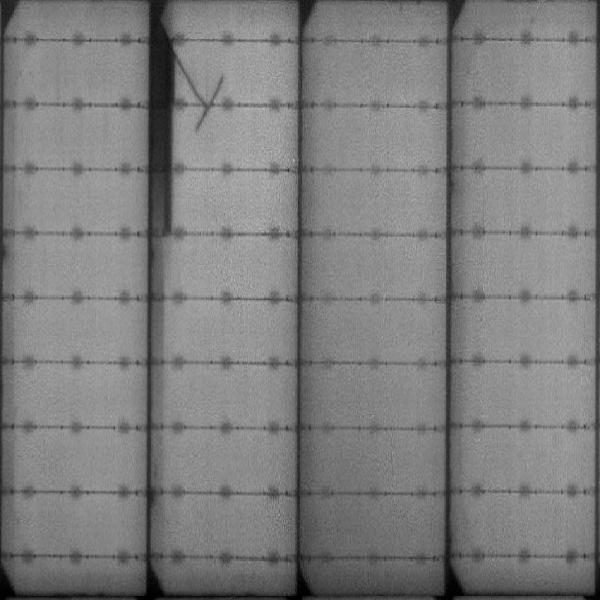black_border: (142, 67, 173, 238)
broken: (151, 20, 223, 127)
